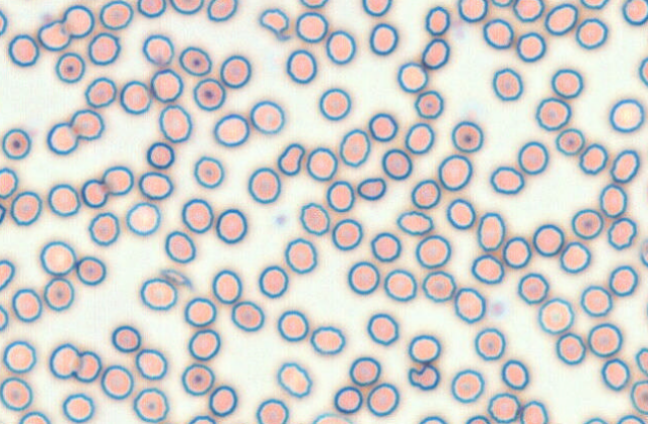RBC: (537, 297, 574, 334), (276, 361, 312, 398), (39, 240, 76, 276), (158, 104, 192, 143), (132, 387, 169, 422), (437, 154, 472, 191), (249, 99, 285, 134), (247, 166, 281, 203), (139, 277, 177, 310), (587, 322, 622, 357), (415, 234, 451, 268), (213, 113, 249, 147), (535, 96, 571, 130), (284, 237, 317, 274), (339, 128, 370, 167), (450, 368, 484, 403), (609, 98, 644, 132), (125, 201, 160, 235), (48, 342, 80, 379), (476, 211, 505, 251), (192, 77, 226, 111), (0, 376, 33, 411), (100, 364, 133, 399), (347, 260, 380, 295), (453, 287, 485, 323), (215, 208, 247, 244), (366, 382, 399, 416), (2, 340, 36, 373), (150, 68, 183, 102), (383, 268, 417, 301), (544, 2, 578, 35), (69, 108, 104, 140), (421, 270, 456, 302), (10, 190, 42, 225), (88, 211, 120, 246), (181, 198, 213, 233), (285, 49, 317, 84), (119, 79, 151, 114), (187, 328, 220, 361), (366, 312, 399, 345), (87, 32, 120, 65), (318, 87, 351, 120), (47, 183, 80, 216), (37, 19, 71, 51), (62, 4, 94, 38), (230, 300, 264, 332), (219, 54, 251, 88), (211, 269, 242, 304), (11, 287, 42, 322), (306, 146, 337, 181), (325, 29, 356, 64), (46, 122, 78, 155), (181, 363, 214, 395), (7, 33, 39, 66), (580, 284, 612, 317), (164, 230, 196, 263), (295, 11, 328, 43), (575, 17, 608, 49), (532, 223, 564, 256), (450, 120, 483, 152), (470, 253, 504, 284), (43, 277, 74, 311), (178, 45, 212, 76), (492, 67, 523, 101), (517, 140, 548, 174), (310, 325, 345, 355), (610, 148, 640, 183), (135, 348, 167, 380), (517, 272, 549, 304), (142, 34, 174, 66), (559, 241, 591, 273), (84, 76, 116, 108), (331, 218, 363, 250), (487, 392, 520, 423), (183, 296, 216, 327), (474, 327, 505, 360), (277, 309, 308, 342), (299, 202, 330, 235), (193, 155, 224, 188), (99, 0, 133, 30), (607, 216, 637, 250), (489, 165, 524, 194), (138, 171, 173, 200), (54, 51, 85, 83), (397, 61, 428, 93), (381, 148, 412, 180), (571, 208, 603, 239), (348, 356, 381, 386), (600, 358, 630, 391), (555, 332, 585, 365), (258, 265, 288, 298), (101, 165, 134, 195), (578, 142, 608, 175), (482, 18, 513, 49), (370, 231, 401, 262), (62, 392, 94, 422), (1, 127, 31, 159), (608, 264, 638, 296), (404, 122, 434, 154), (551, 68, 583, 98), (407, 334, 440, 363), (208, 384, 237, 417), (369, 22, 398, 55), (599, 183, 627, 217), (410, 178, 440, 209), (75, 255, 106, 285), (516, 31, 546, 62), (73, 350, 102, 382), (502, 236, 531, 268), (326, 180, 355, 212), (396, 210, 433, 235), (368, 112, 398, 142), (500, 359, 529, 390), (421, 38, 450, 69), (446, 198, 475, 229), (414, 89, 443, 119), (255, 398, 289, 423), (333, 385, 362, 414), (80, 178, 108, 208), (111, 324, 141, 352), (555, 127, 585, 155), (424, 5, 450, 36), (146, 141, 174, 169), (356, 176, 386, 200), (512, 0, 544, 22), (519, 400, 548, 423), (457, 0, 487, 22), (206, 0, 237, 21), (622, 0, 647, 25), (630, 379, 647, 414), (0, 166, 18, 198), (136, 0, 166, 17), (169, 0, 203, 14), (0, 259, 15, 290), (362, 0, 391, 16), (311, 412, 352, 423), (18, 410, 50, 423), (635, 347, 647, 376), (638, 56, 647, 86), (579, 0, 609, 9), (616, 414, 645, 423), (187, 414, 216, 423), (639, 237, 647, 267), (464, 414, 490, 423), (418, 415, 447, 423), (299, 0, 328, 8), (0, 303, 8, 331), (0, 8, 7, 36), (582, 416, 608, 423), (490, 0, 513, 7), (643, 295, 648, 325), (0, 203, 6, 224)
Schistocyte: (260, 8, 291, 41), (278, 143, 306, 176), (408, 364, 440, 391), (160, 268, 192, 286)
